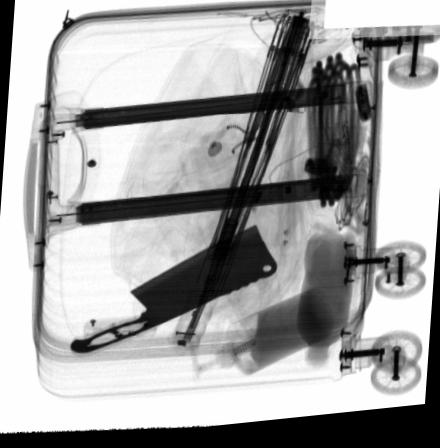Knife: (69, 229, 277, 354)
